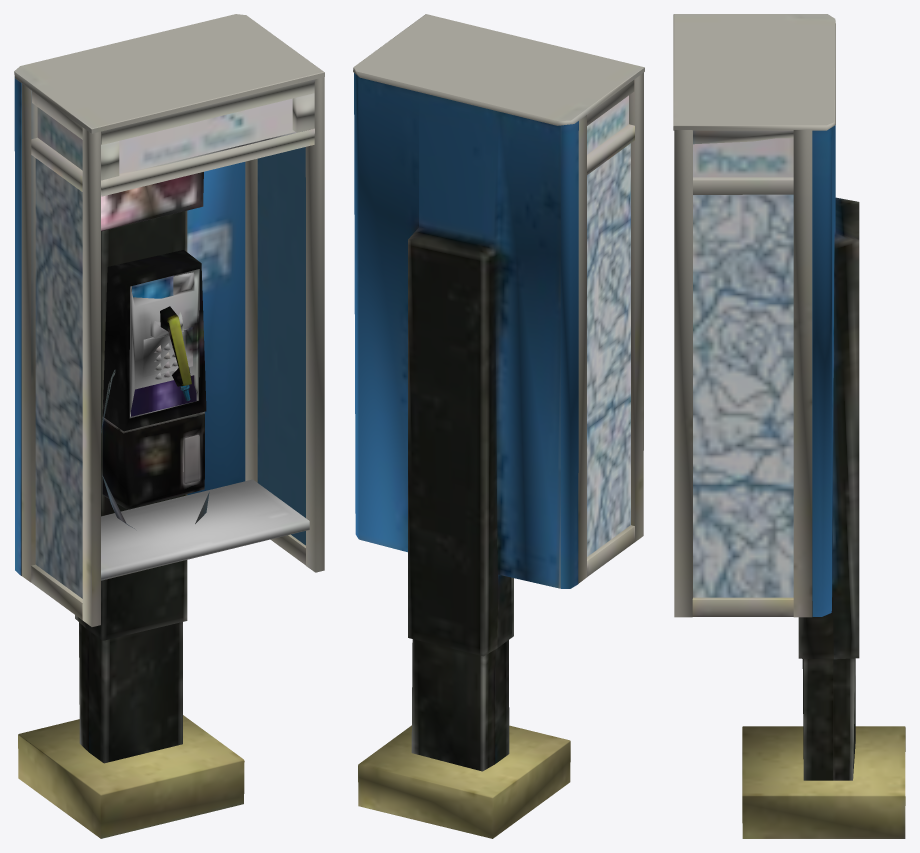
The model's file is phone-booth-2.lod0.glb.
The picture shows the model from 3 angles, left to right: view 1: azimuth 30°, elevation 25°; view 2: azimuth 150°, elevation 25°; view 3: azimuth 270°, elevation 25°; orthographic projection. The views are drawn at different scales.
Visible parts, largest first — view 1: defaultMaterial; view 2: defaultMaterial; view 3: defaultMaterial.
Boxes of the visible parts, <box> form: defaultMaterial: <box>14,14,324,838</box>; defaultMaterial: <box>353,14,644,838</box>; defaultMaterial: <box>673,14,905,838</box>.
Size of the model in its own units: 0.7543 by 2.3 by 0.6573.
Materials: 1 (1 with a texture image).
